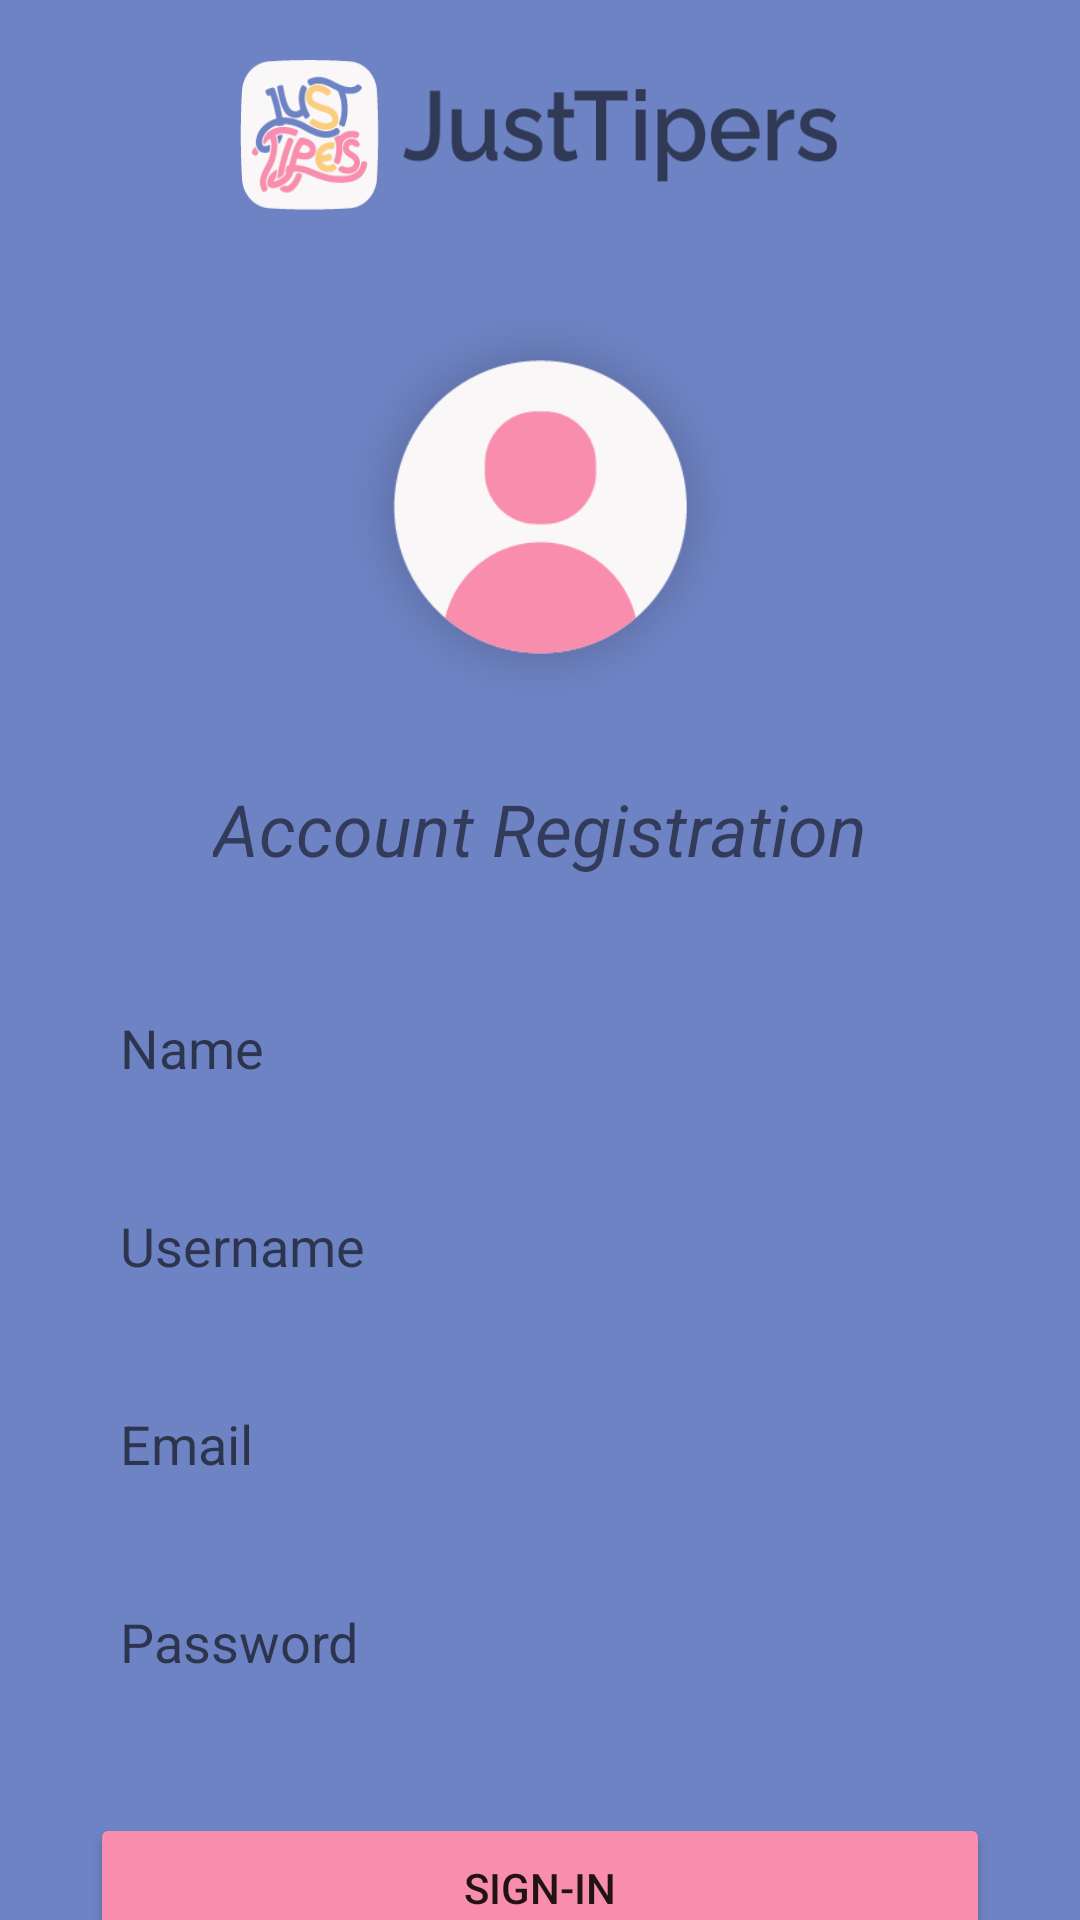

Named icons in this screenshot (1080*1920) and their centers, (x,y):
Profile Image: (540,507)
